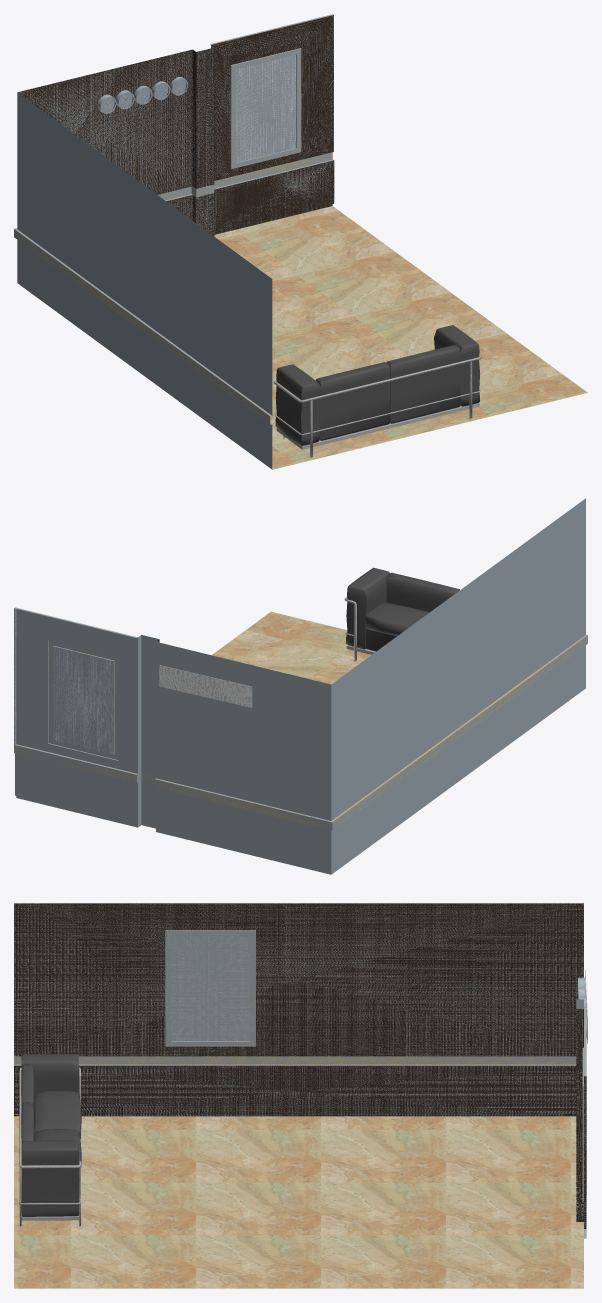
File: ariroom.fbx
The picture shows the model from 3 angles, top to bottom: view 1: azimuth 30°, elevation 25°; view 2: azimuth 150°, elevation 25°; view 3: azimuth 270°, elevation 25°; orthographic projection. The views are drawn at different scales.
Parts seen in each view (by area): view 1: Model, Group1, Group2, Component_9_1; view 2: Model, Group1, Component_9_1; view 3: Model, Group1, Group2.
Part boxes in pixels (x1,y1,x2,y2): Model: [14, 14, 587, 469]; Group1: [275, 325, 479, 445]; Group2: [274, 355, 481, 457]; Component_9_1: [97, 77, 188, 113]; Model: [14, 498, 587, 874]; Group1: [345, 567, 459, 651]; Component_9_1: [159, 665, 252, 707]; Model: [14, 903, 586, 1288]; Group1: [21, 1054, 81, 1216]; Group2: [19, 1067, 81, 1227].
Bounding box in the file's own units: 158 × 90.53 × 221.
